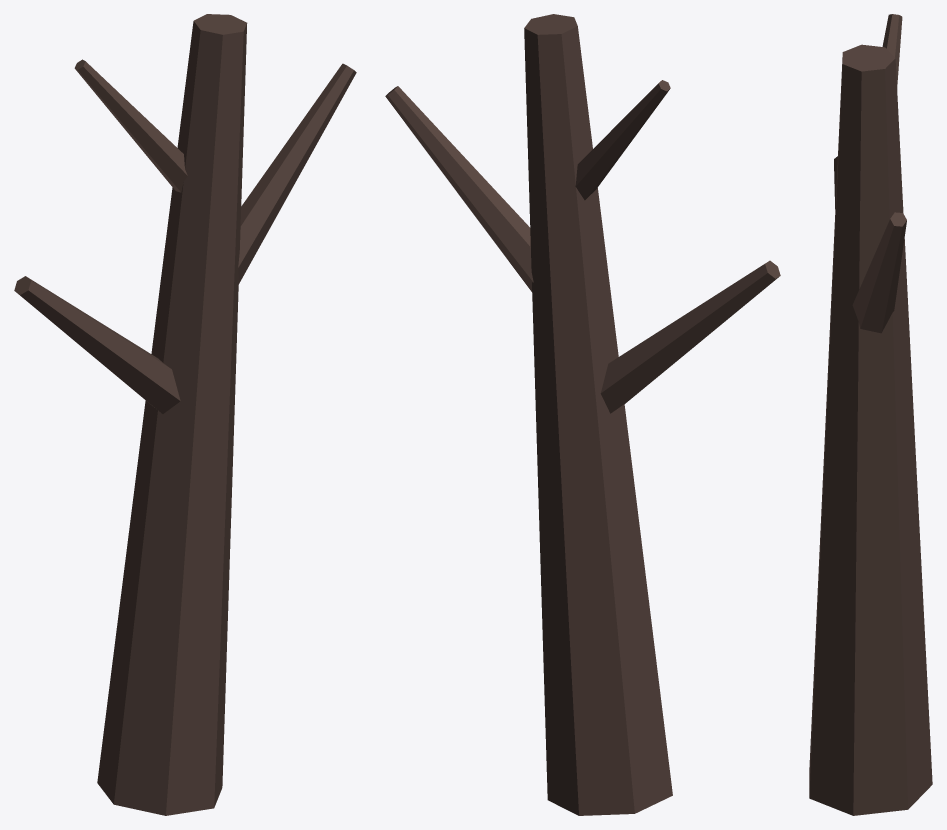
File: EXT_DeadTree_02.glb
3 views of the same model, side by side, from view 1: azimuth 30°, elevation 25°; view 2: azimuth 150°, elevation 25°; view 3: azimuth 270°, elevation 25° (orthographic).
Parts seen in each view (by area): view 1: EXT_DeadTree_02; view 2: EXT_DeadTree_02; view 3: EXT_DeadTree_02.
Boxes of the visible parts, x1,y1,x2,y2 form: EXT_DeadTree_02: (14,14,356,815); EXT_DeadTree_02: (385,14,780,815); EXT_DeadTree_02: (809,14,932,815).
Bounding box in the file's own units: 2.74 × 5.45 × 0.7984.
